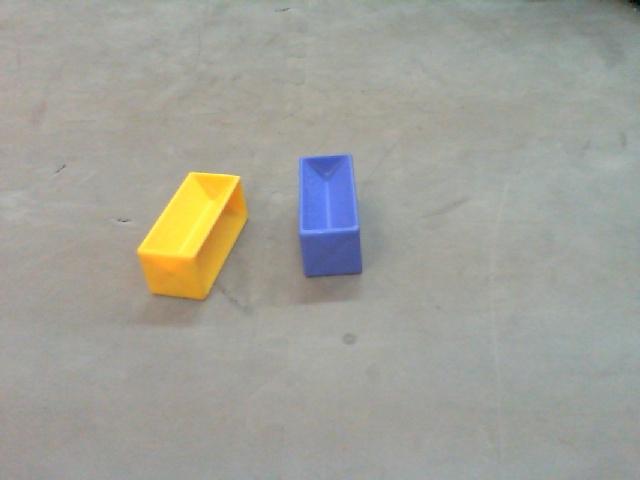BlueSample: (298, 154, 366, 279)
YellowSample: (134, 169, 250, 307)
